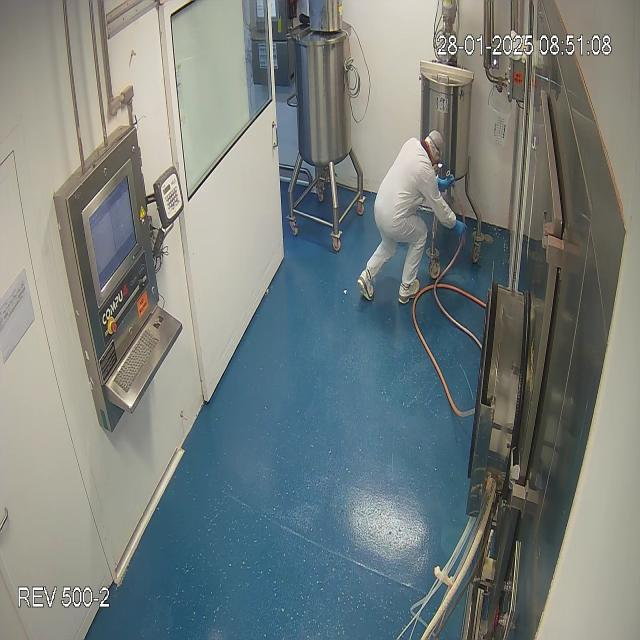bota: (356, 267, 426, 310)
pessoa: (357, 131, 468, 305)
touca: (423, 126, 449, 165)
